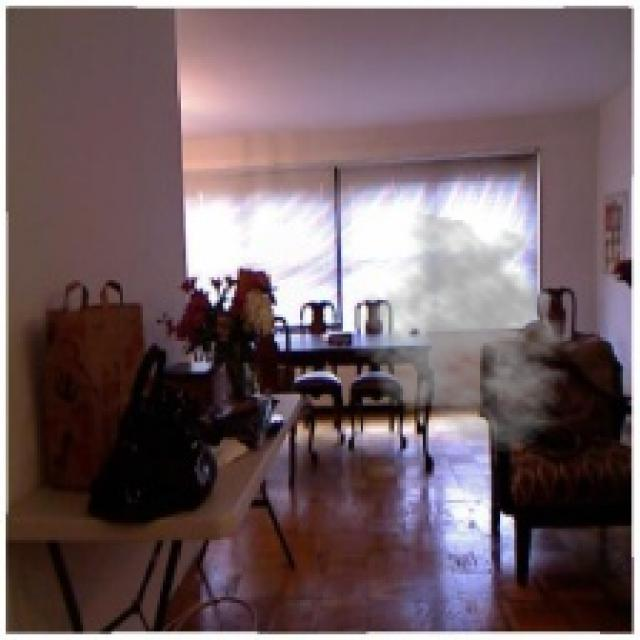smoke: (352, 212, 592, 454)
